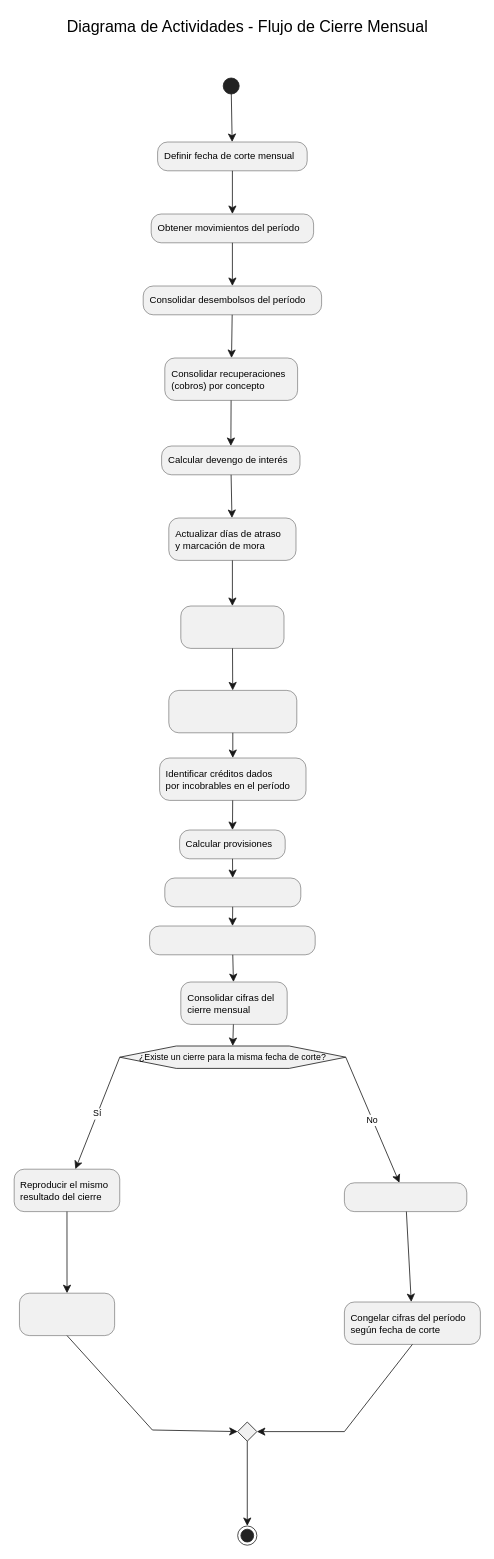
The diagram is 494 pixels wide and 1559 high, and some of its shapes have lost their labels. The centre of each missing label's shape, as x and y in pixels:
Calcular cartera en riesgo por tramo: (232,711)
Determinar créditos activos: (232,892)
Determinar saldo de cartera activa: (232,626)
Evitar duplicación de movimientos: (66,1314)
Identificar vencimientos próximos: (232,940)
Registrar cierre mensual: (405,1196)
